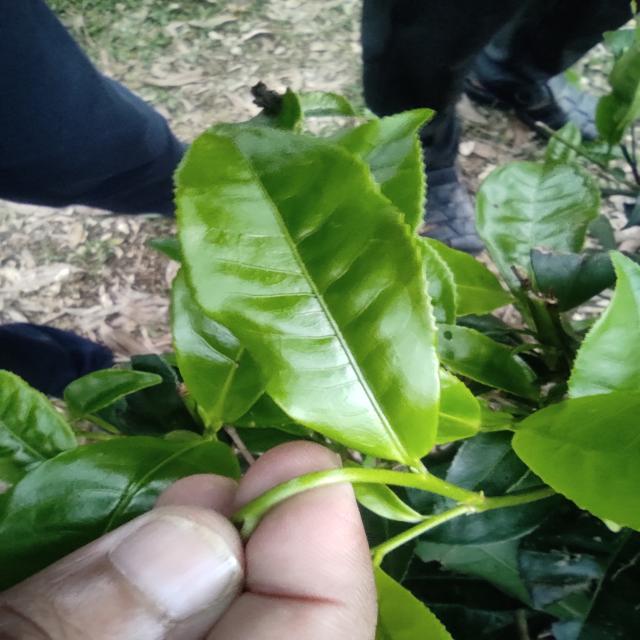Category C 4-7 days: (122, 80, 484, 498)
